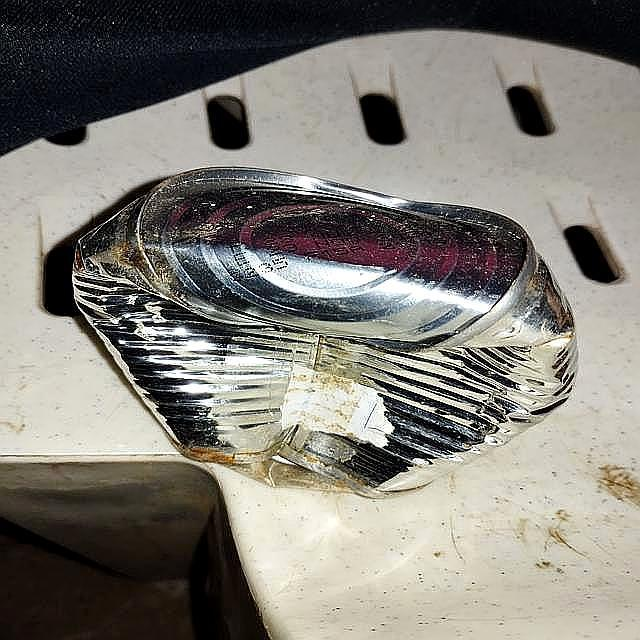Non-biodegradable: (70, 163, 582, 499)
